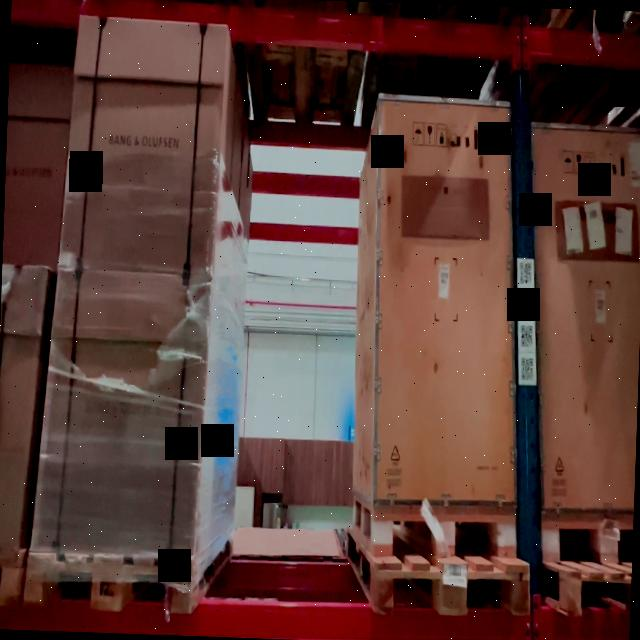box: (372, 103, 510, 496), (52, 276, 202, 554), (70, 16, 220, 270)
